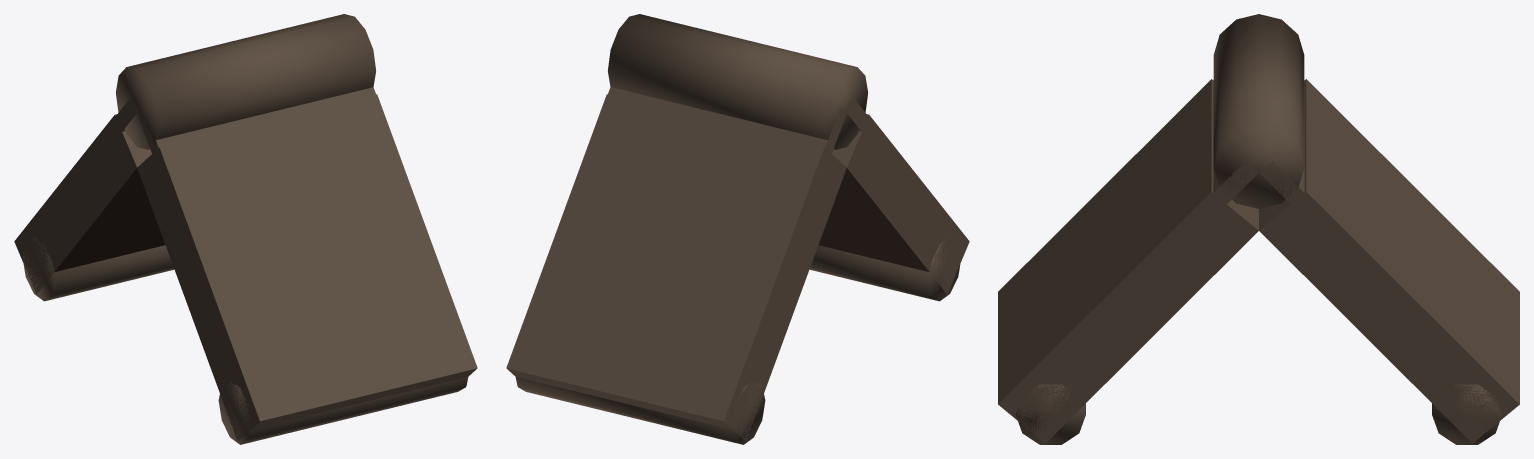
The model's file is kit_timber_thatch_w1.glb.
3 views of the same model, side by side, from view 1: azimuth 30°, elevation 25°; view 2: azimuth 150°, elevation 25°; view 3: azimuth 270°, elevation 25° (orthographic). The views are drawn at different scales.
Parts seen in each view (by area): view 1: kit_timber_thatch_w1; view 2: kit_timber_thatch_w1; view 3: kit_timber_thatch_w1.
Part boxes in pixels (x1,y1,x2,y2): kit_timber_thatch_w1: (14,14,477,444); kit_timber_thatch_w1: (506,14,969,444); kit_timber_thatch_w1: (998,14,1519,444).
Size of the model in its own units: 1 by 1.32 by 1.96.
